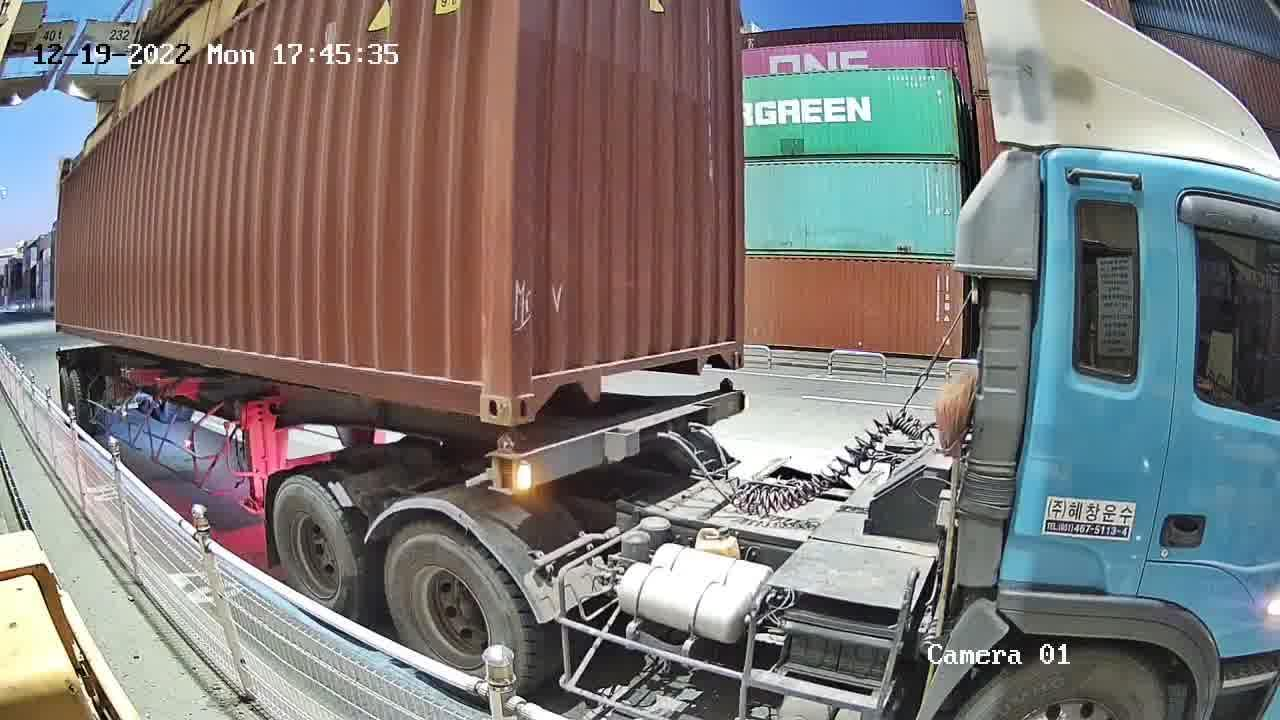Chassis: (486, 387, 744, 494)
Cone: (484, 432, 529, 495), (715, 376, 736, 393)
Hole_L: (509, 356, 564, 426)
Hole_R: (443, 353, 508, 424), (701, 313, 744, 373)
Tire: (383, 527, 523, 680), (273, 480, 355, 612)
